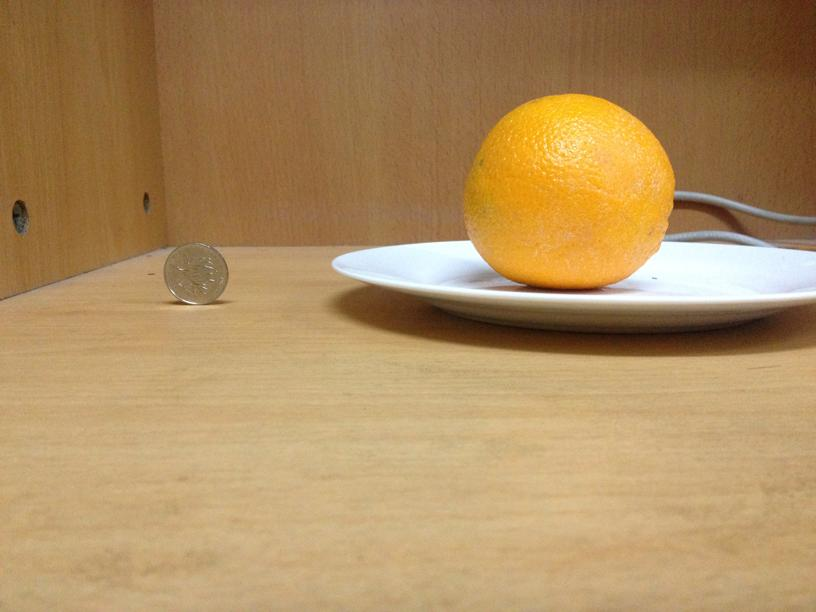coin: (161, 240, 229, 304)
orange: (462, 91, 678, 290)
